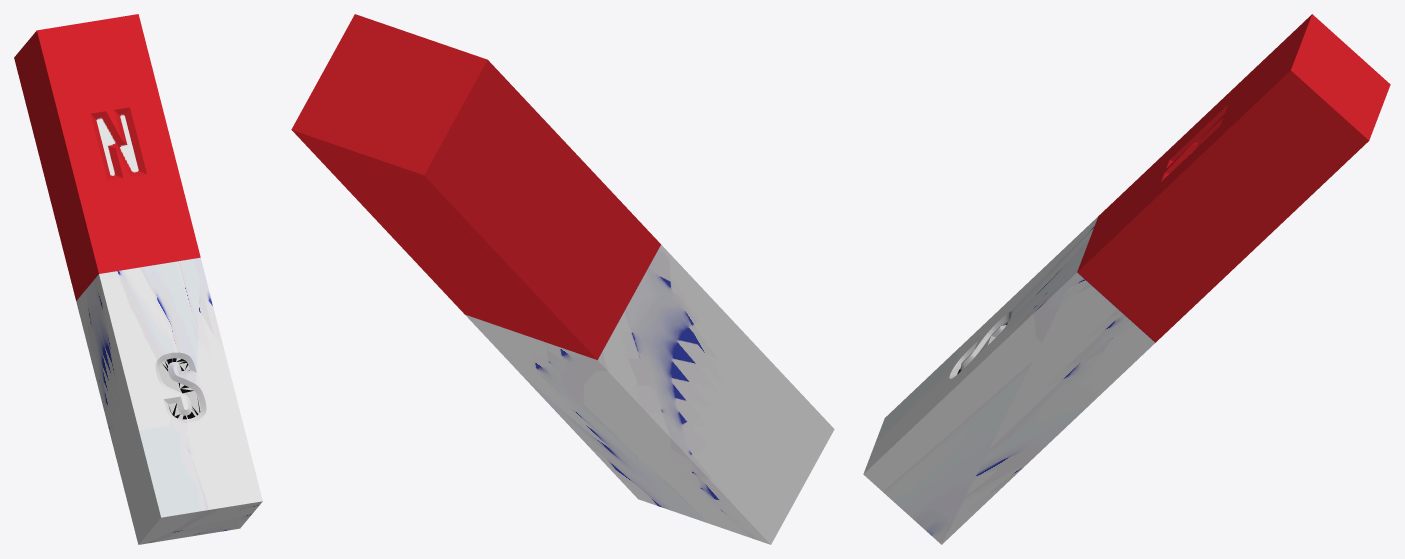
3 renders of one model, left to right at view 1: azimuth 30°, elevation 25°; view 2: azimuth 150°, elevation 25°; view 3: azimuth 270°, elevation 25°, orthographic. The views are drawn at different scales.
Parts seen in each view (by area): view 1: node_id60 (×2), node_id57 (×2); view 2: node_id57, node_id60; view 3: node_id57, node_id60.
Part boxes in pixels (left/top/right/bottom): node_id60 (×2): left=76, top=257, right=262, bottom=544; node_id57 (×2): left=14, top=14, right=200, bottom=300; node_id57: left=291, top=14, right=660, bottom=359; node_id60: left=465, top=244, right=834, bottom=544; node_id57: left=1077, top=14, right=1390, bottom=342; node_id60: left=863, top=216, right=1154, bottom=544.
Size of the model in its own units: 0.0218 by 0.0558 by 0.0535.
